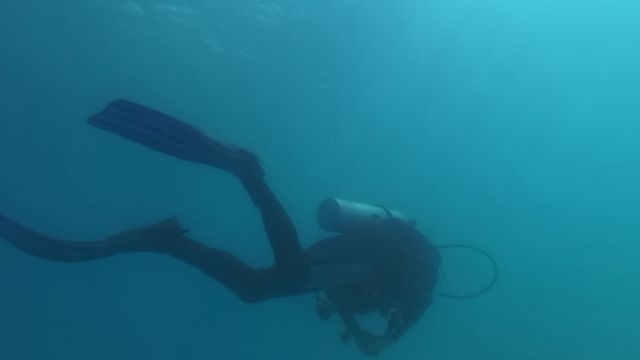Diver: (7, 89, 454, 354)
